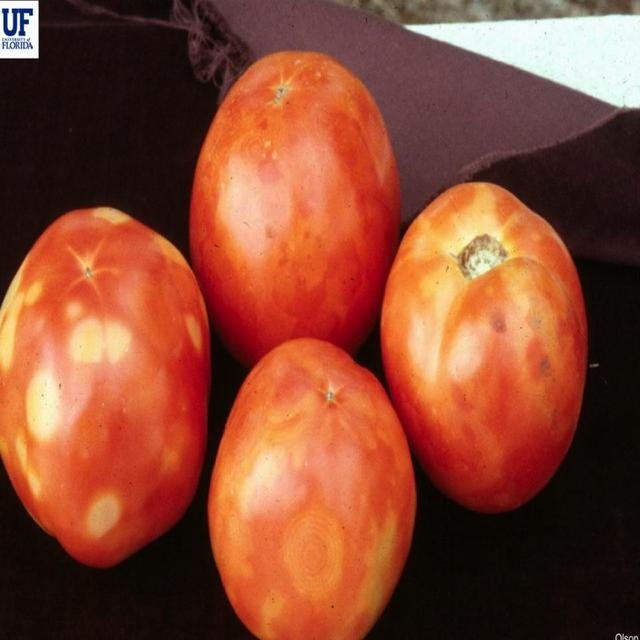Spotted wilt Virus Fruit: (70, 140, 323, 326)
